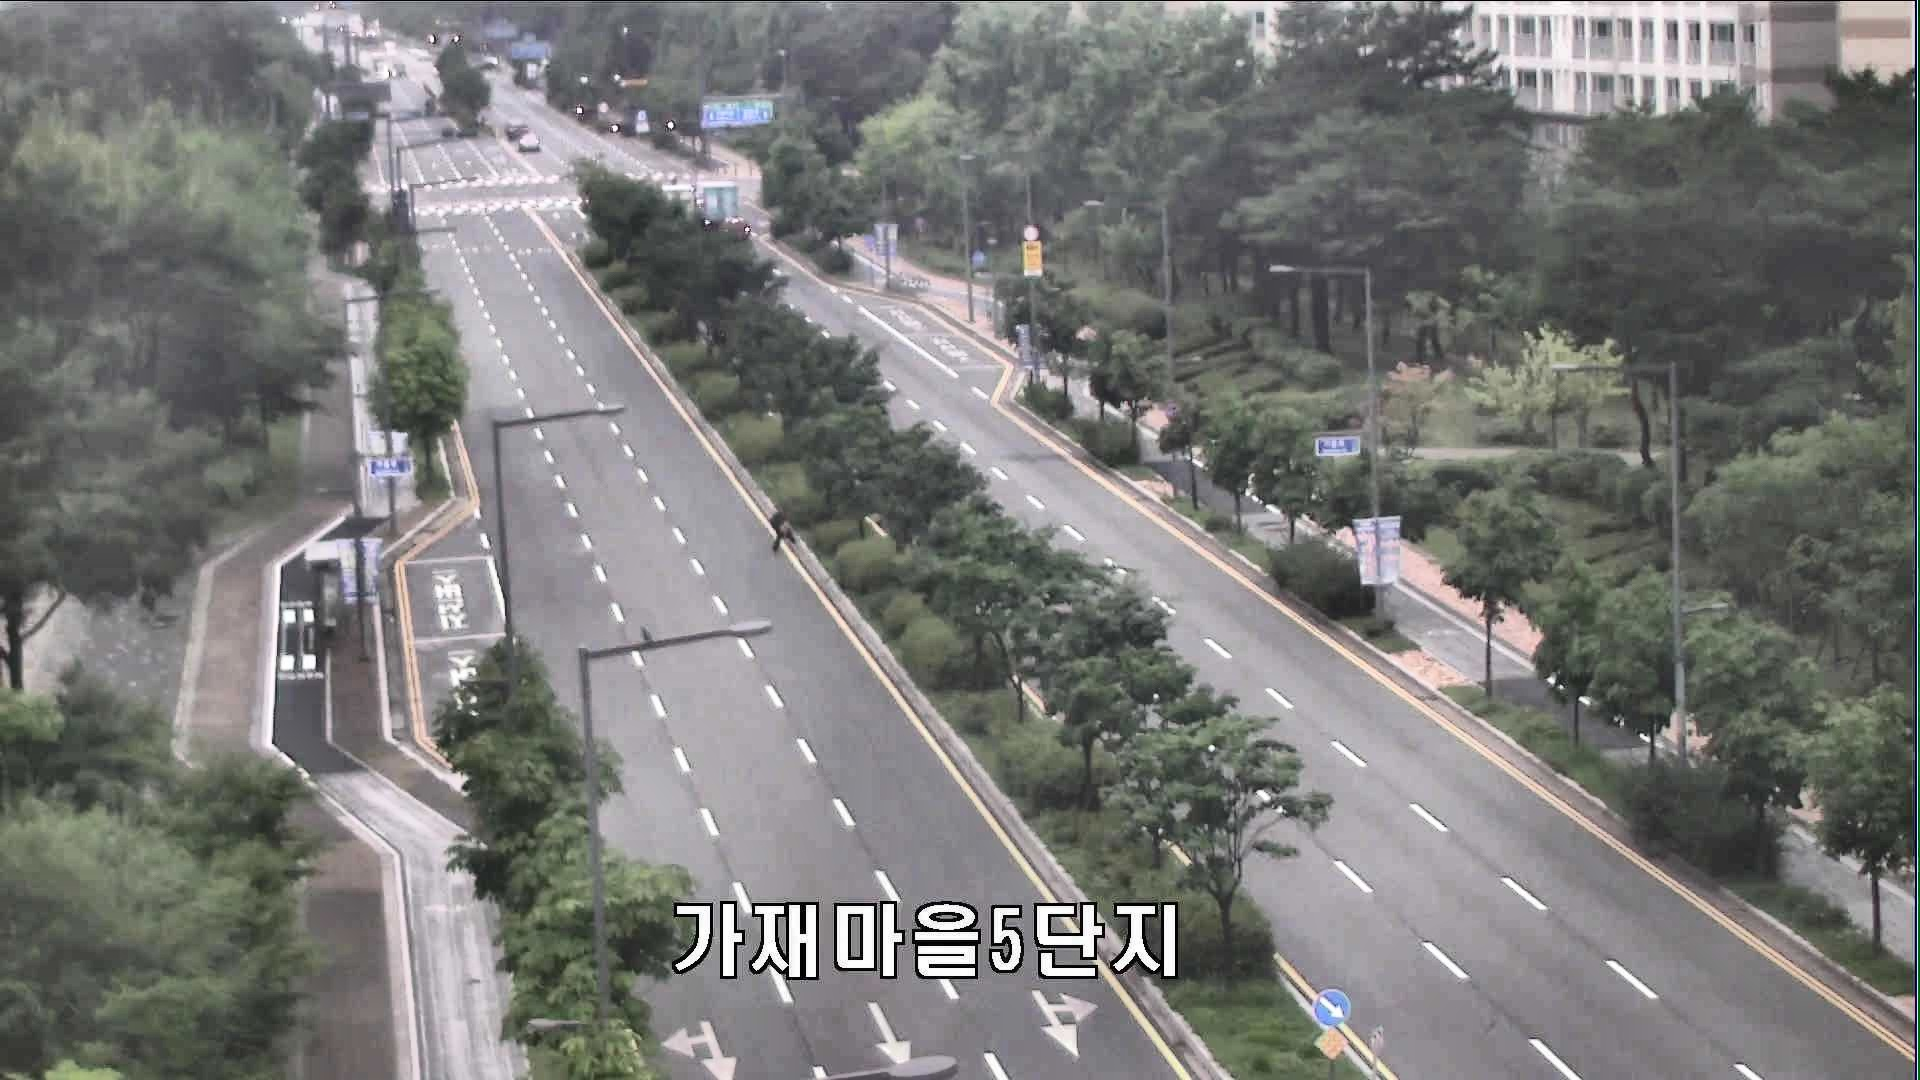jaywalk: (765, 506, 800, 554)
